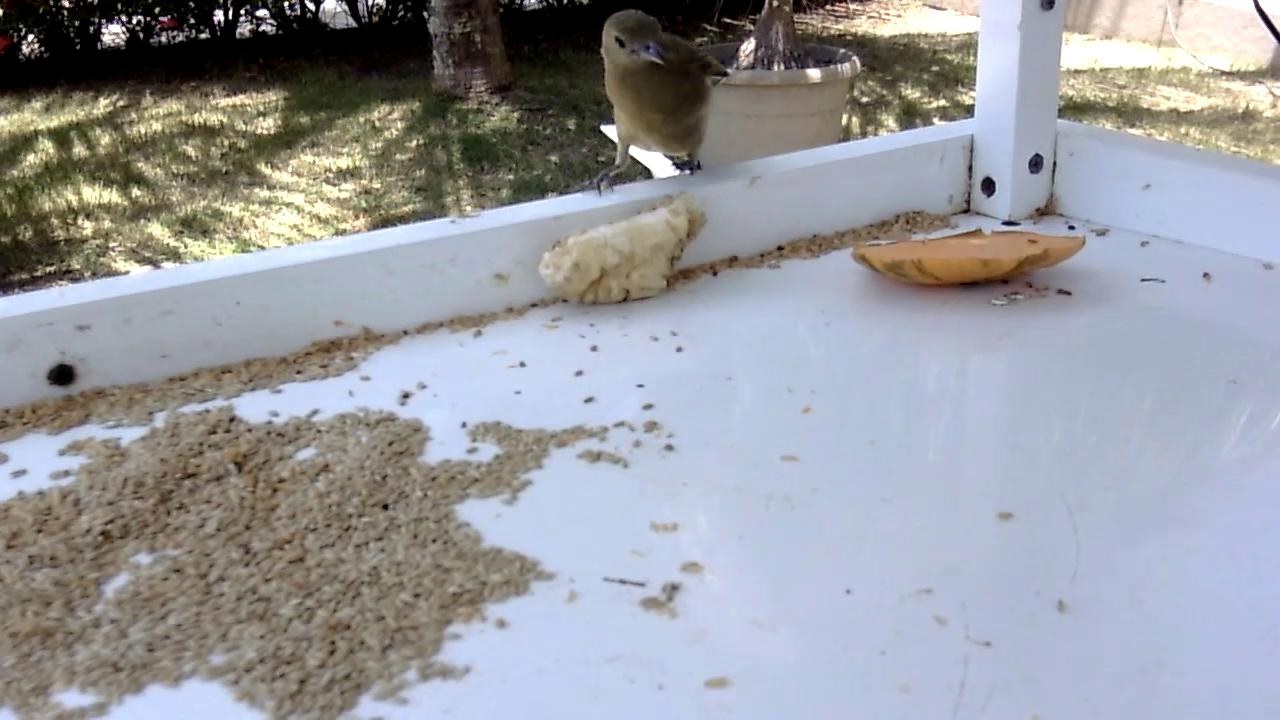sanhaco_do_coqueiro: (597, 9, 732, 202)
